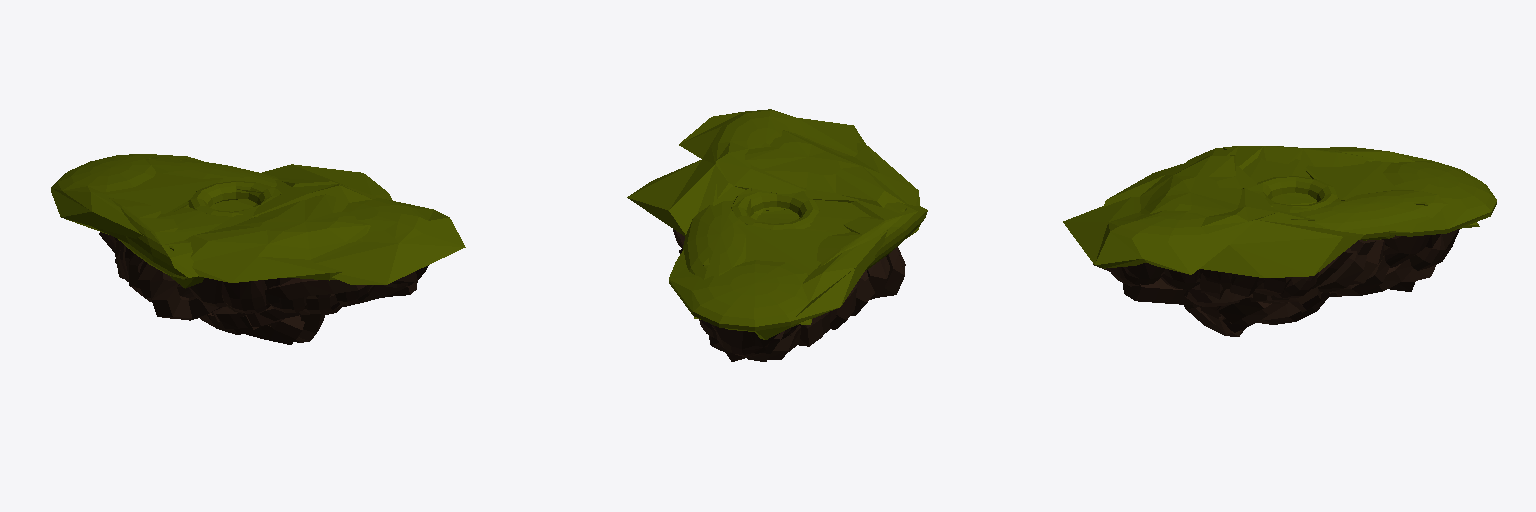
File: island.obj
The picture shows the model from 3 angles: view 1: azimuth 30°, elevation 25°; view 2: azimuth 150°, elevation 25°; view 3: azimuth 270°, elevation 25°; orthographic projection.
Visible parts, largest first — view 1: group[number redacted], group[number redacted], group[number redacted], group[number redacted], group[number redacted], group[number redacted], group[number redacted], group[number redacted], group[number redacted], group[number redacted], group[number redacted], group[number redacted] (+2 smaller); view 2: group[number redacted], group[number redacted], group[number redacted], group[number redacted], group[number redacted], group[number redacted], group[number redacted], group[number redacted], group[number redacted], group[number redacted]; view 3: group[number redacted], group[number redacted], group[number redacted], group[number redacted], group[number redacted], group[number redacted], group[number redacted], group[number redacted], group[number redacted], group[number redacted], group[number redacted], group[number redacted] (+8 smaller).
Boxes of the visible parts, box(x1,y1,x2,y2) form: group[number redacted]: box(252, 164, 465, 284); group[number redacted]: box(185, 194, 370, 282); group[number redacted]: box(51, 154, 203, 250); group[number redacted]: box(109, 198, 231, 278); group[number redacted]: box(188, 181, 281, 216); group[number redacted]: box(102, 157, 222, 213); group[number redacted]: box(226, 271, 417, 327); group[number redacted]: box(145, 157, 278, 186); group[number redacted]: box(150, 270, 191, 318); group[number redacted]: box(221, 280, 270, 313); group[number redacted]: box(200, 307, 283, 328); group[number redacted]: box(188, 278, 226, 306); group[number redacted]: box(627, 109, 865, 235); group[number redacted]: box(669, 208, 906, 339); group[number redacted]: box(745, 130, 919, 207); group[number redacted]: box(810, 200, 927, 270); group[number redacted]: box(683, 200, 745, 279); group[number redacted]: box(703, 224, 833, 274); group[number redacted]: box(731, 189, 819, 229); group[number redacted]: box(711, 324, 779, 356); group[number redacted]: box(878, 247, 905, 297); group[number redacted]: box(867, 257, 889, 299); group[number redacted]: box(1063, 188, 1363, 277); group[number redacted]: box(1223, 147, 1496, 236); group[number redacted]: box(1104, 155, 1241, 216); group[number redacted]: box(1296, 190, 1447, 240); group[number redacted]: box(1186, 146, 1374, 182); group[number redacted]: box(1248, 176, 1337, 212); group[number redacted]: box(1306, 161, 1427, 205); group[number redacted]: box(1123, 278, 1193, 304); group[number redacted]: box(1382, 235, 1430, 267); group[number redacted]: box(1318, 251, 1366, 292); group[number redacted]: box(1108, 263, 1164, 286); group[number redacted]: box(1409, 229, 1457, 270).
Size of the model in its own units: 1.91 by 0.9752 by 2.68.